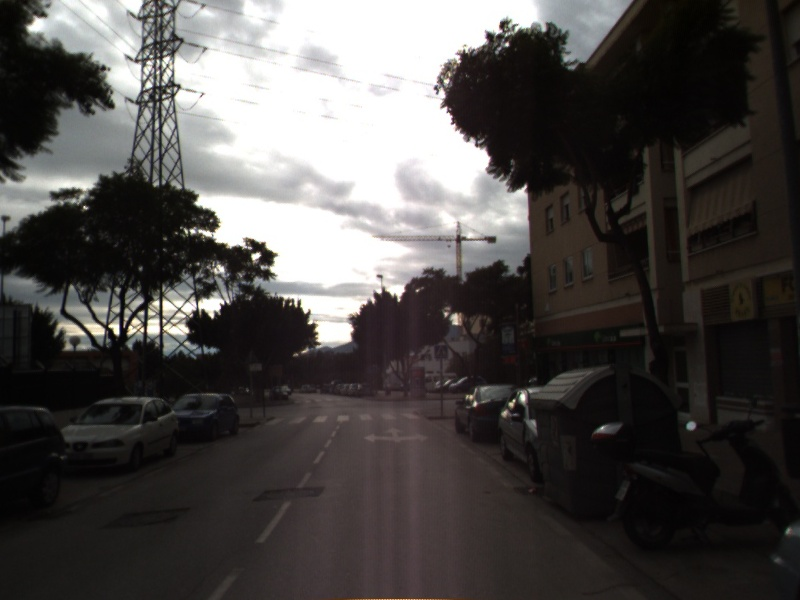STRAIGHT_LEFT_RIGHT: (362, 425, 431, 445)
